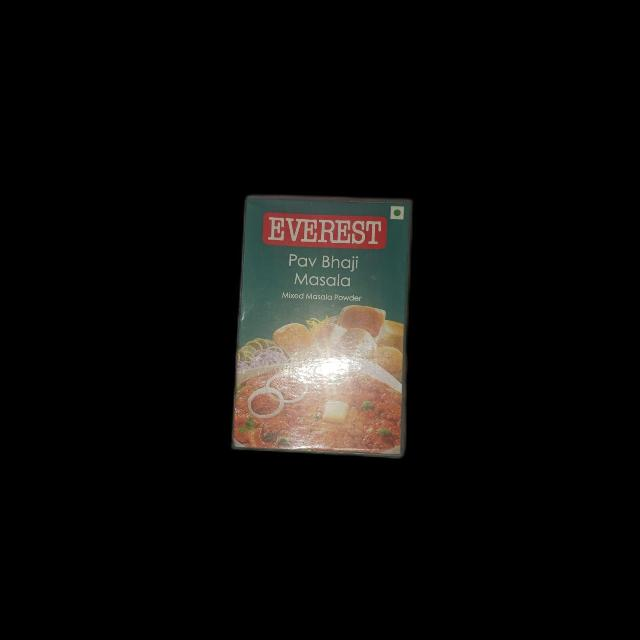Everest Pav Bhaji Masala 100 g: (227, 185, 411, 460)
